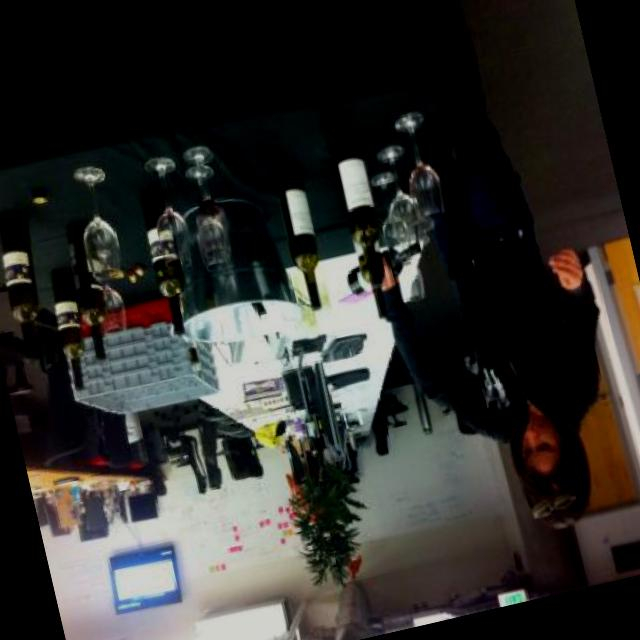Person: (359, 126, 633, 527)
